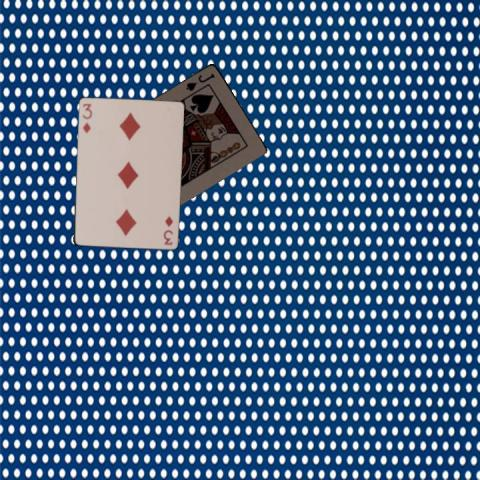3d: (80, 100, 94, 135), (161, 213, 174, 246)
Js: (183, 70, 216, 92)
